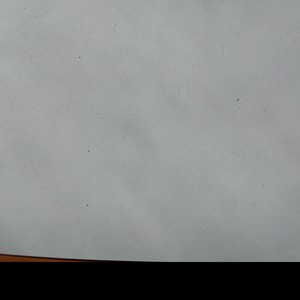base: (1, 1, 299, 256)
